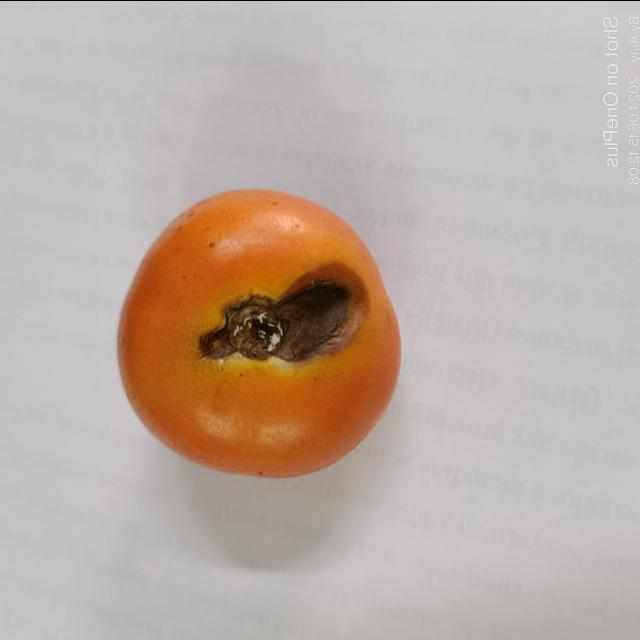Anthrocnose: (200, 262, 365, 364)
